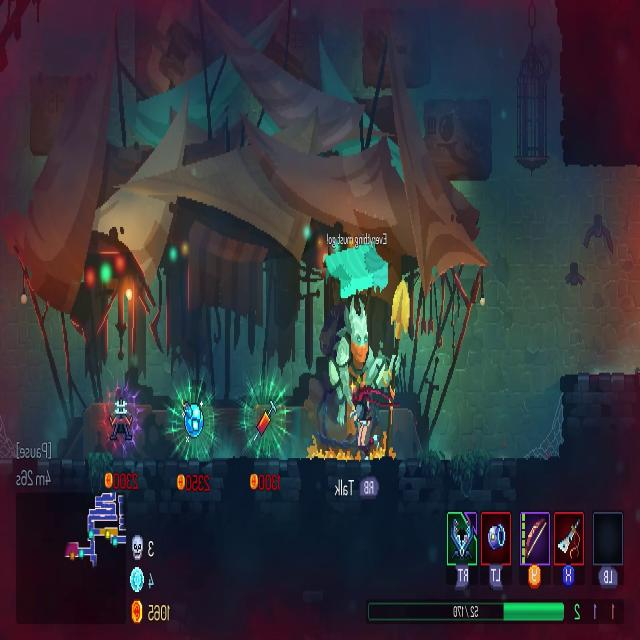agents: (348, 381, 384, 464)
